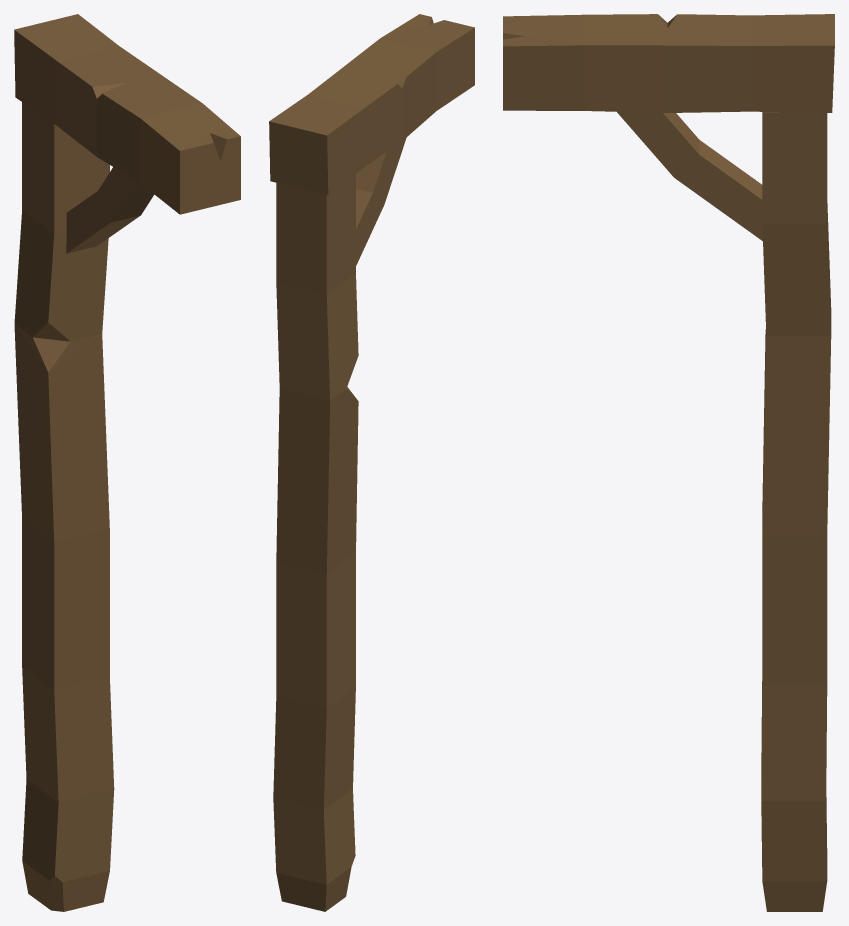
Rendered from Pillar.fbx.
3 views of the same model, side by side, from view 1: azimuth 30°, elevation 25°; view 2: azimuth 150°, elevation 25°; view 3: azimuth 270°, elevation 25° (orthographic). The views are drawn at different scales.
Parts seen in each view (by area): view 1: Pillar; view 2: Pillar; view 3: Pillar.
Boxes of the visible parts, x1=… form: Pillar: x1=14, y1=14, x2=240, y2=911; Pillar: x1=269, y1=14, x2=474, y2=911; Pillar: x1=503, y1=14, x2=834, y2=911.
Bounding box in the file's own units: 0.4238 × 5.24 × 1.81.
